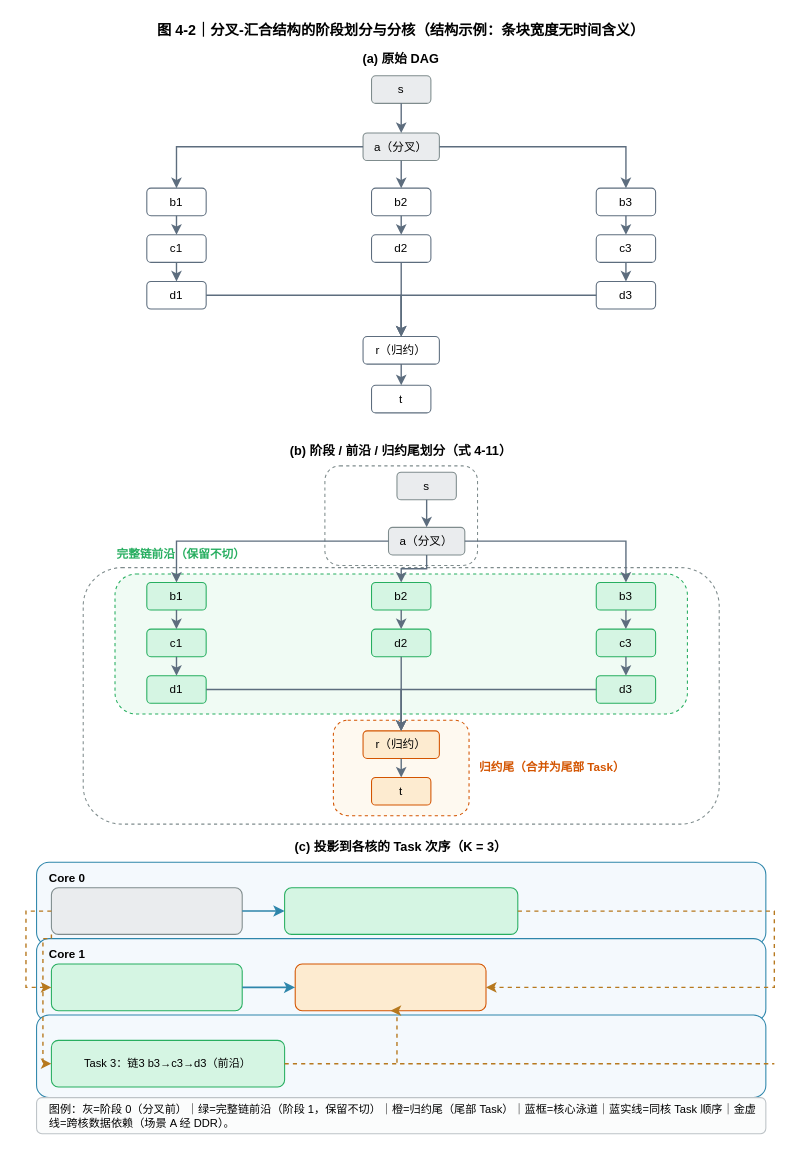
The diagram is 802 pixels wide and 1152 high, and some of its shapes have lost their labels. The shapes that lost their labels are listed below. From the top down, each one's box as (x1, y1, x2, y2) in pixels, then its label:
(324, 465, 478, 566): 阶段 0
(82, 567, 719, 824): 阶段 1
(50, 887, 242, 934): Task 0：s → a（阶段 0）
(284, 887, 518, 934): Task 1：链1 b1→c1→d1（前沿）
(50, 963, 242, 1011): Task 2：链2 b2→d2（前沿）
(294, 963, 486, 1011): Task 4：r → t（归约尾）
(36, 1014, 766, 1098): Core 2
